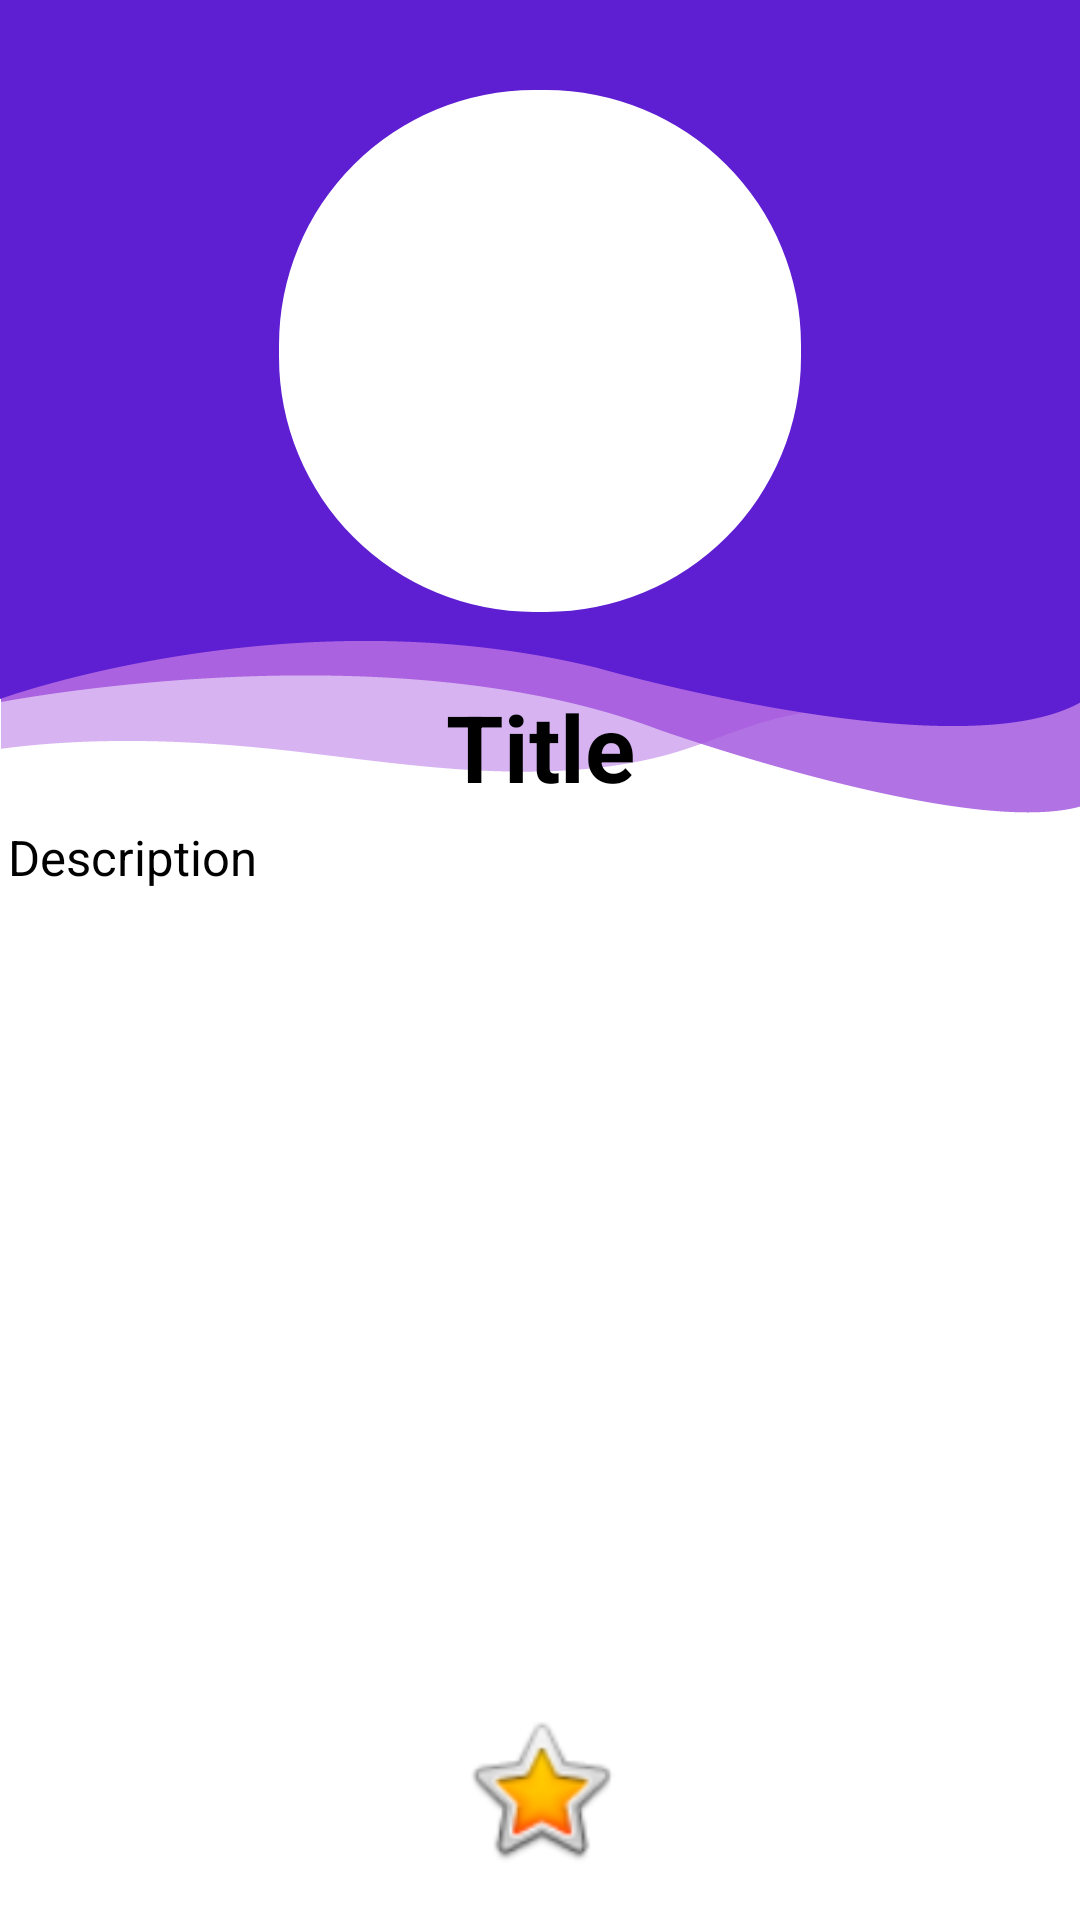

Icon click points for this 1080 x 1920 phone screenshot, format point (x, y):
star on: point (542, 1791)
